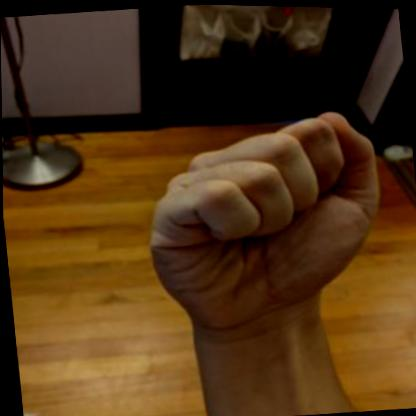A: (116, 92, 416, 357)
